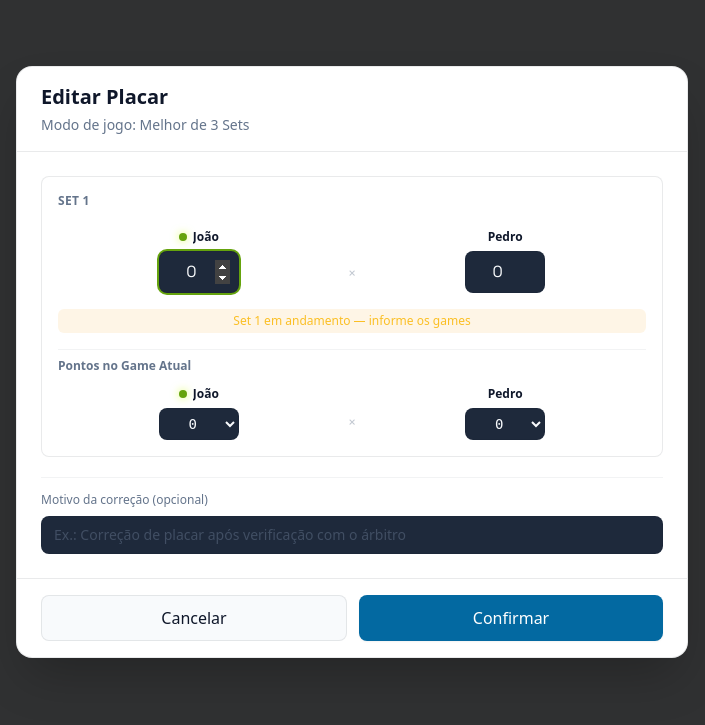
it: EditScoreModal - Confirmar Set Button › Multiple sets flow › should allow adding multiple sets via Confirmar Set (6-2, then 3-6)
Set 1: 6-2
Step 1. Type "6" into the number field with placeholder "0" → [199, 272], box [159,251,239,293]
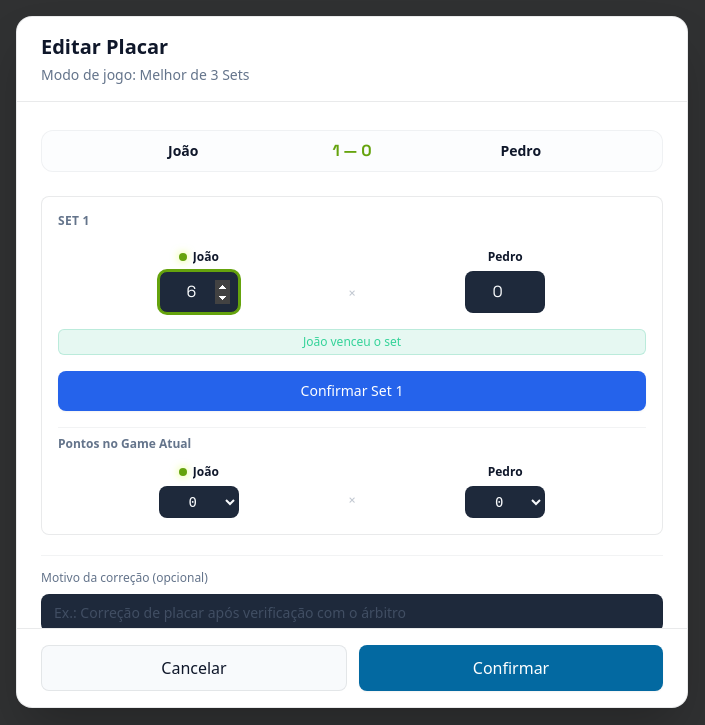
Step 2. Type "2" into the number field with placeholder "0" → [505, 292], box [465,271,545,313]
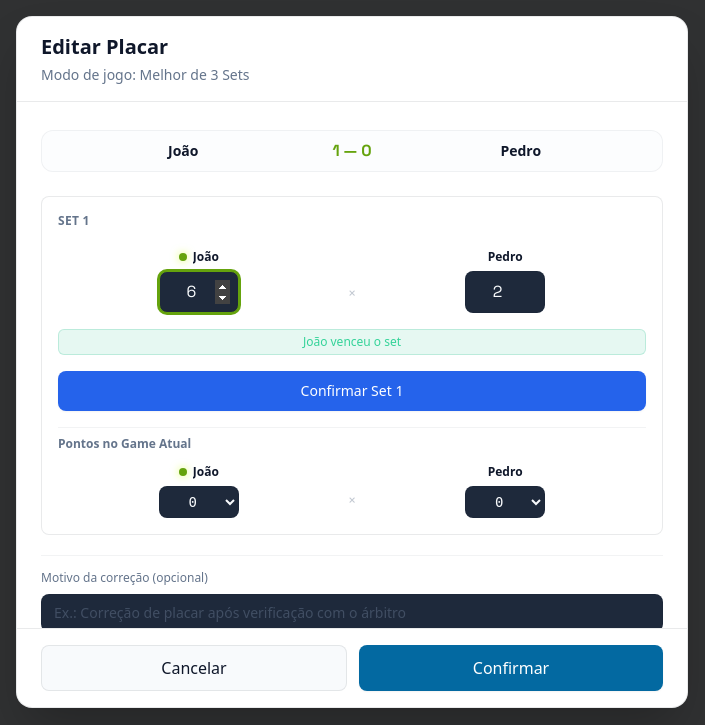
Step 3. Click the button "Confirmar Set 1" → [352, 391], box [58,371,646,411]
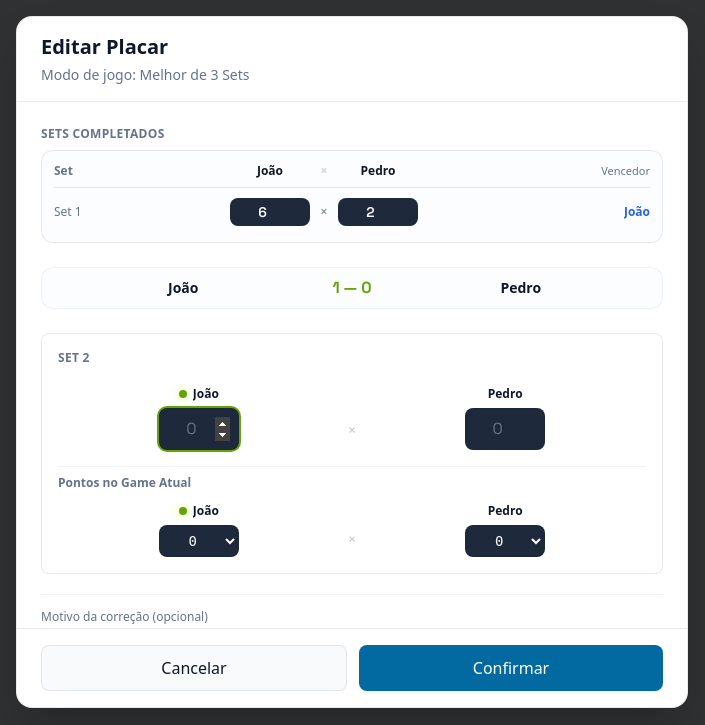
Check: the text "Sets Completados" is shown, box [41,125,165,142]
Check: the text "Set 2" is shown, box [58,349,90,366]
Step 4. Type "3" into the 1st number field with placeholder "0" → [199, 429], box [159,408,239,450]
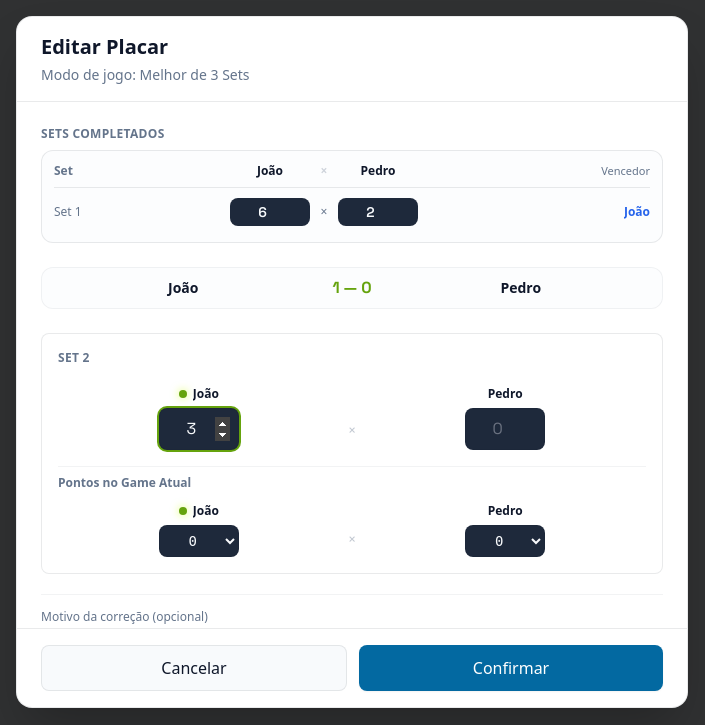
Step 5. Type "6" into the number field with placeholder "0" → [505, 429], box [465,408,545,450]
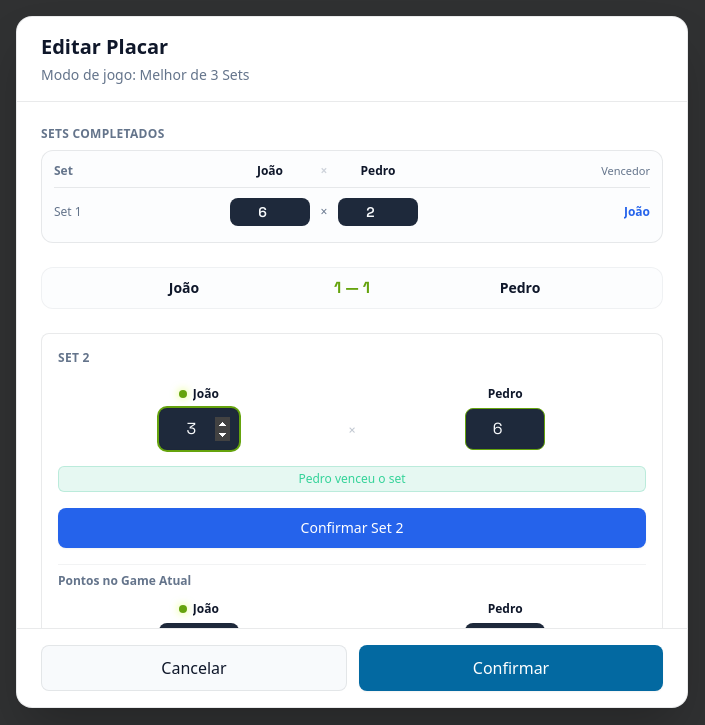
Step 6. Click the button "Confirmar Set 2" → [352, 528], box [58,508,646,548]
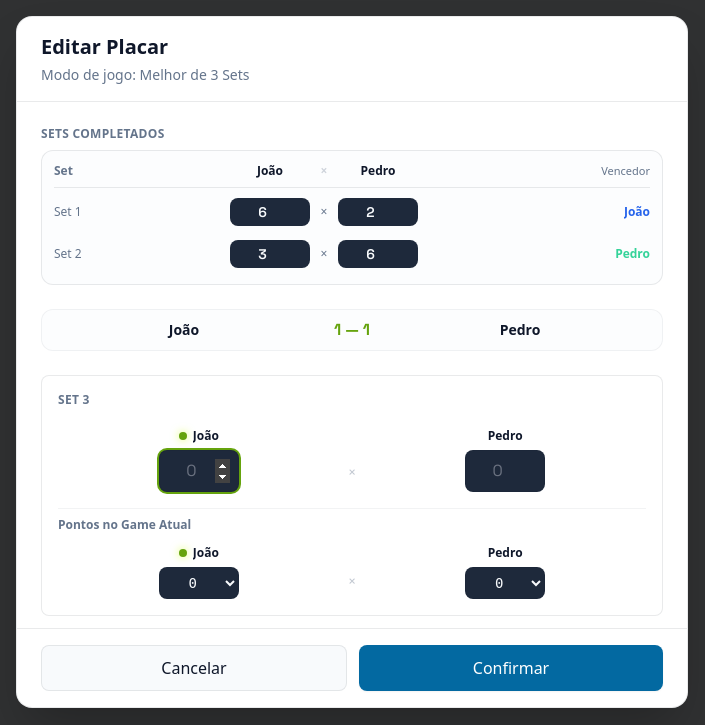
Check: the text "Set 3" is shown, box [58,391,90,408]
